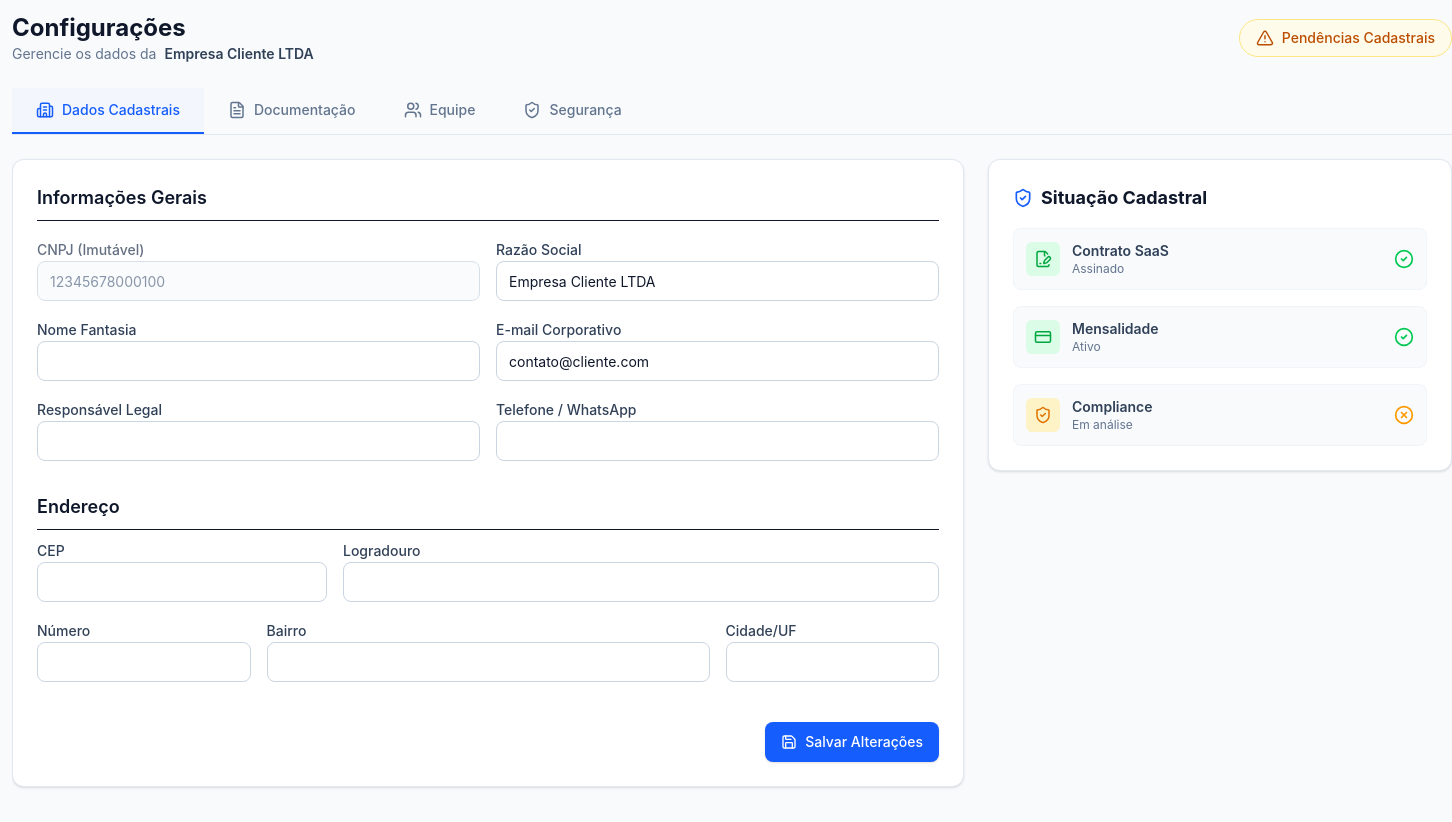
CompanySettings Integration › deve navegar para a aba Documentação e simular um re-upload
The image size is (1452, 822).
Click the button "Documentação".
click(292, 111)  # box [204,88,380,134]
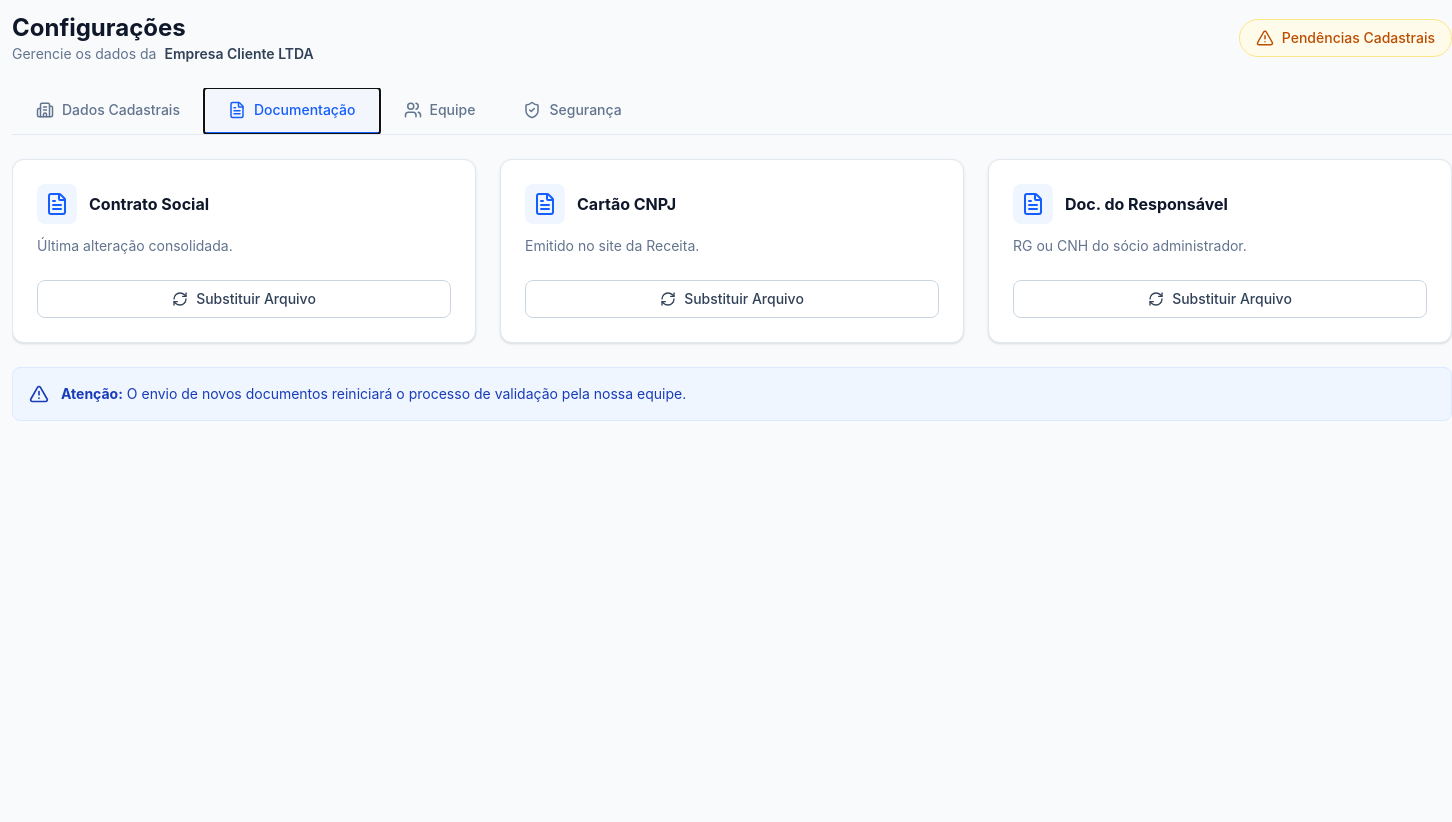
Expected: the heading "Cartão CNPJ" is shown, [577,192,676,216]
